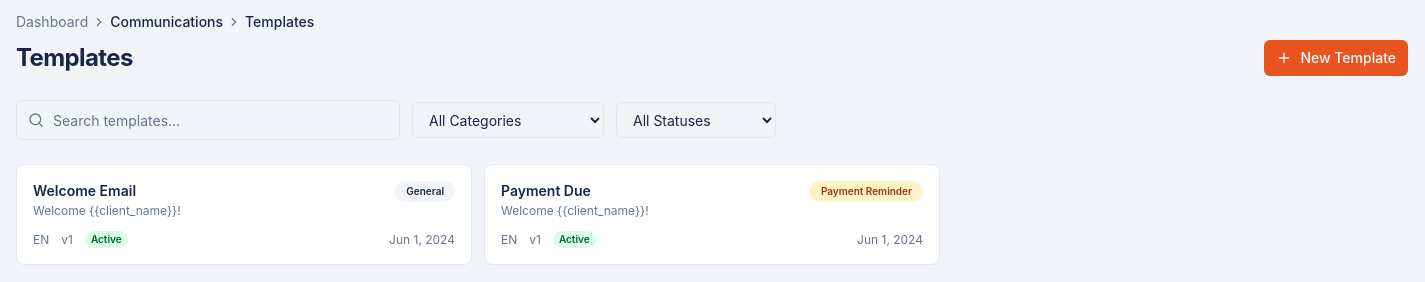
Test: TemplatesView › filters by category
Step 1. Select "Payment Reminder" in the dropdown named "Filter by category" → (508,120), box [412,102,604,138]
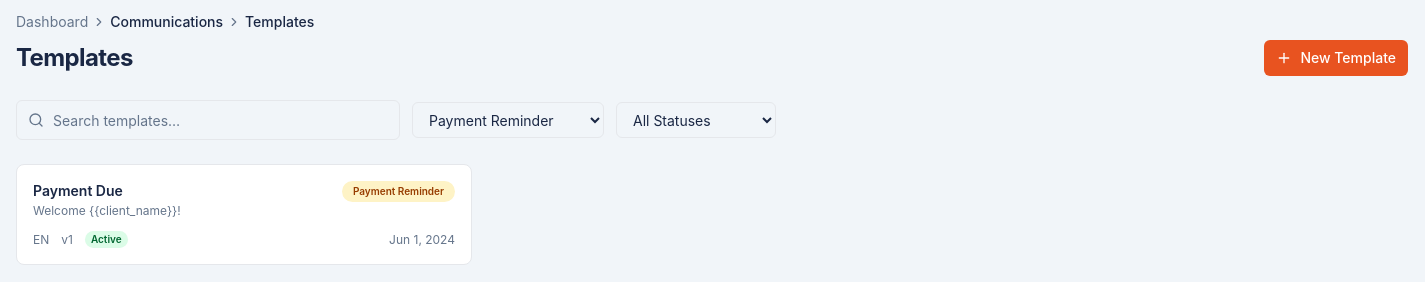
Expected: the heading "Payment Due" is shown, [33,182,123,199]
Result: the button "Welcome Email" is gone
